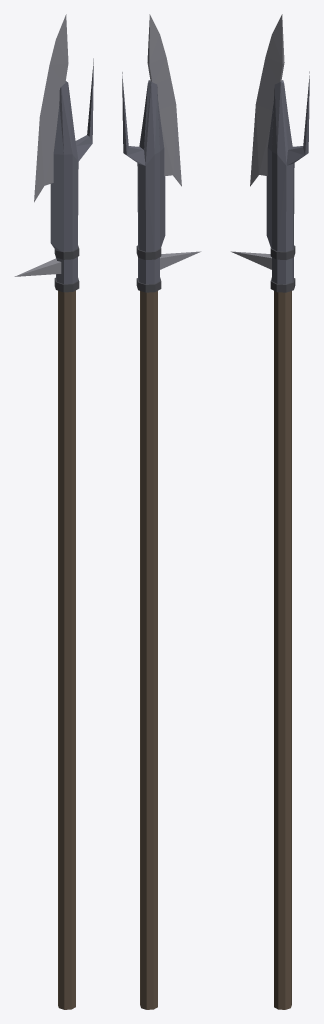
The model's file is Lanca_A14.fbx.
3 renders of one model, left to right at view 1: azimuth 30°, elevation 25°; view 2: azimuth 210°, elevation 25°; view 3: azimuth 330°, elevation 25°, orthographic.
Parts seen in each view (by area): view 1: polearm_14; view 2: polearm_14; view 3: polearm_14.
Boxes of the visible parts, x1,y1,x2,y2 form: polearm_14: [14, 14, 93, 1009]; polearm_14: [122, 14, 201, 1009]; polearm_14: [230, 14, 309, 1009].
Size of the model in its own units: 17.53 by 208 by 4.84.
